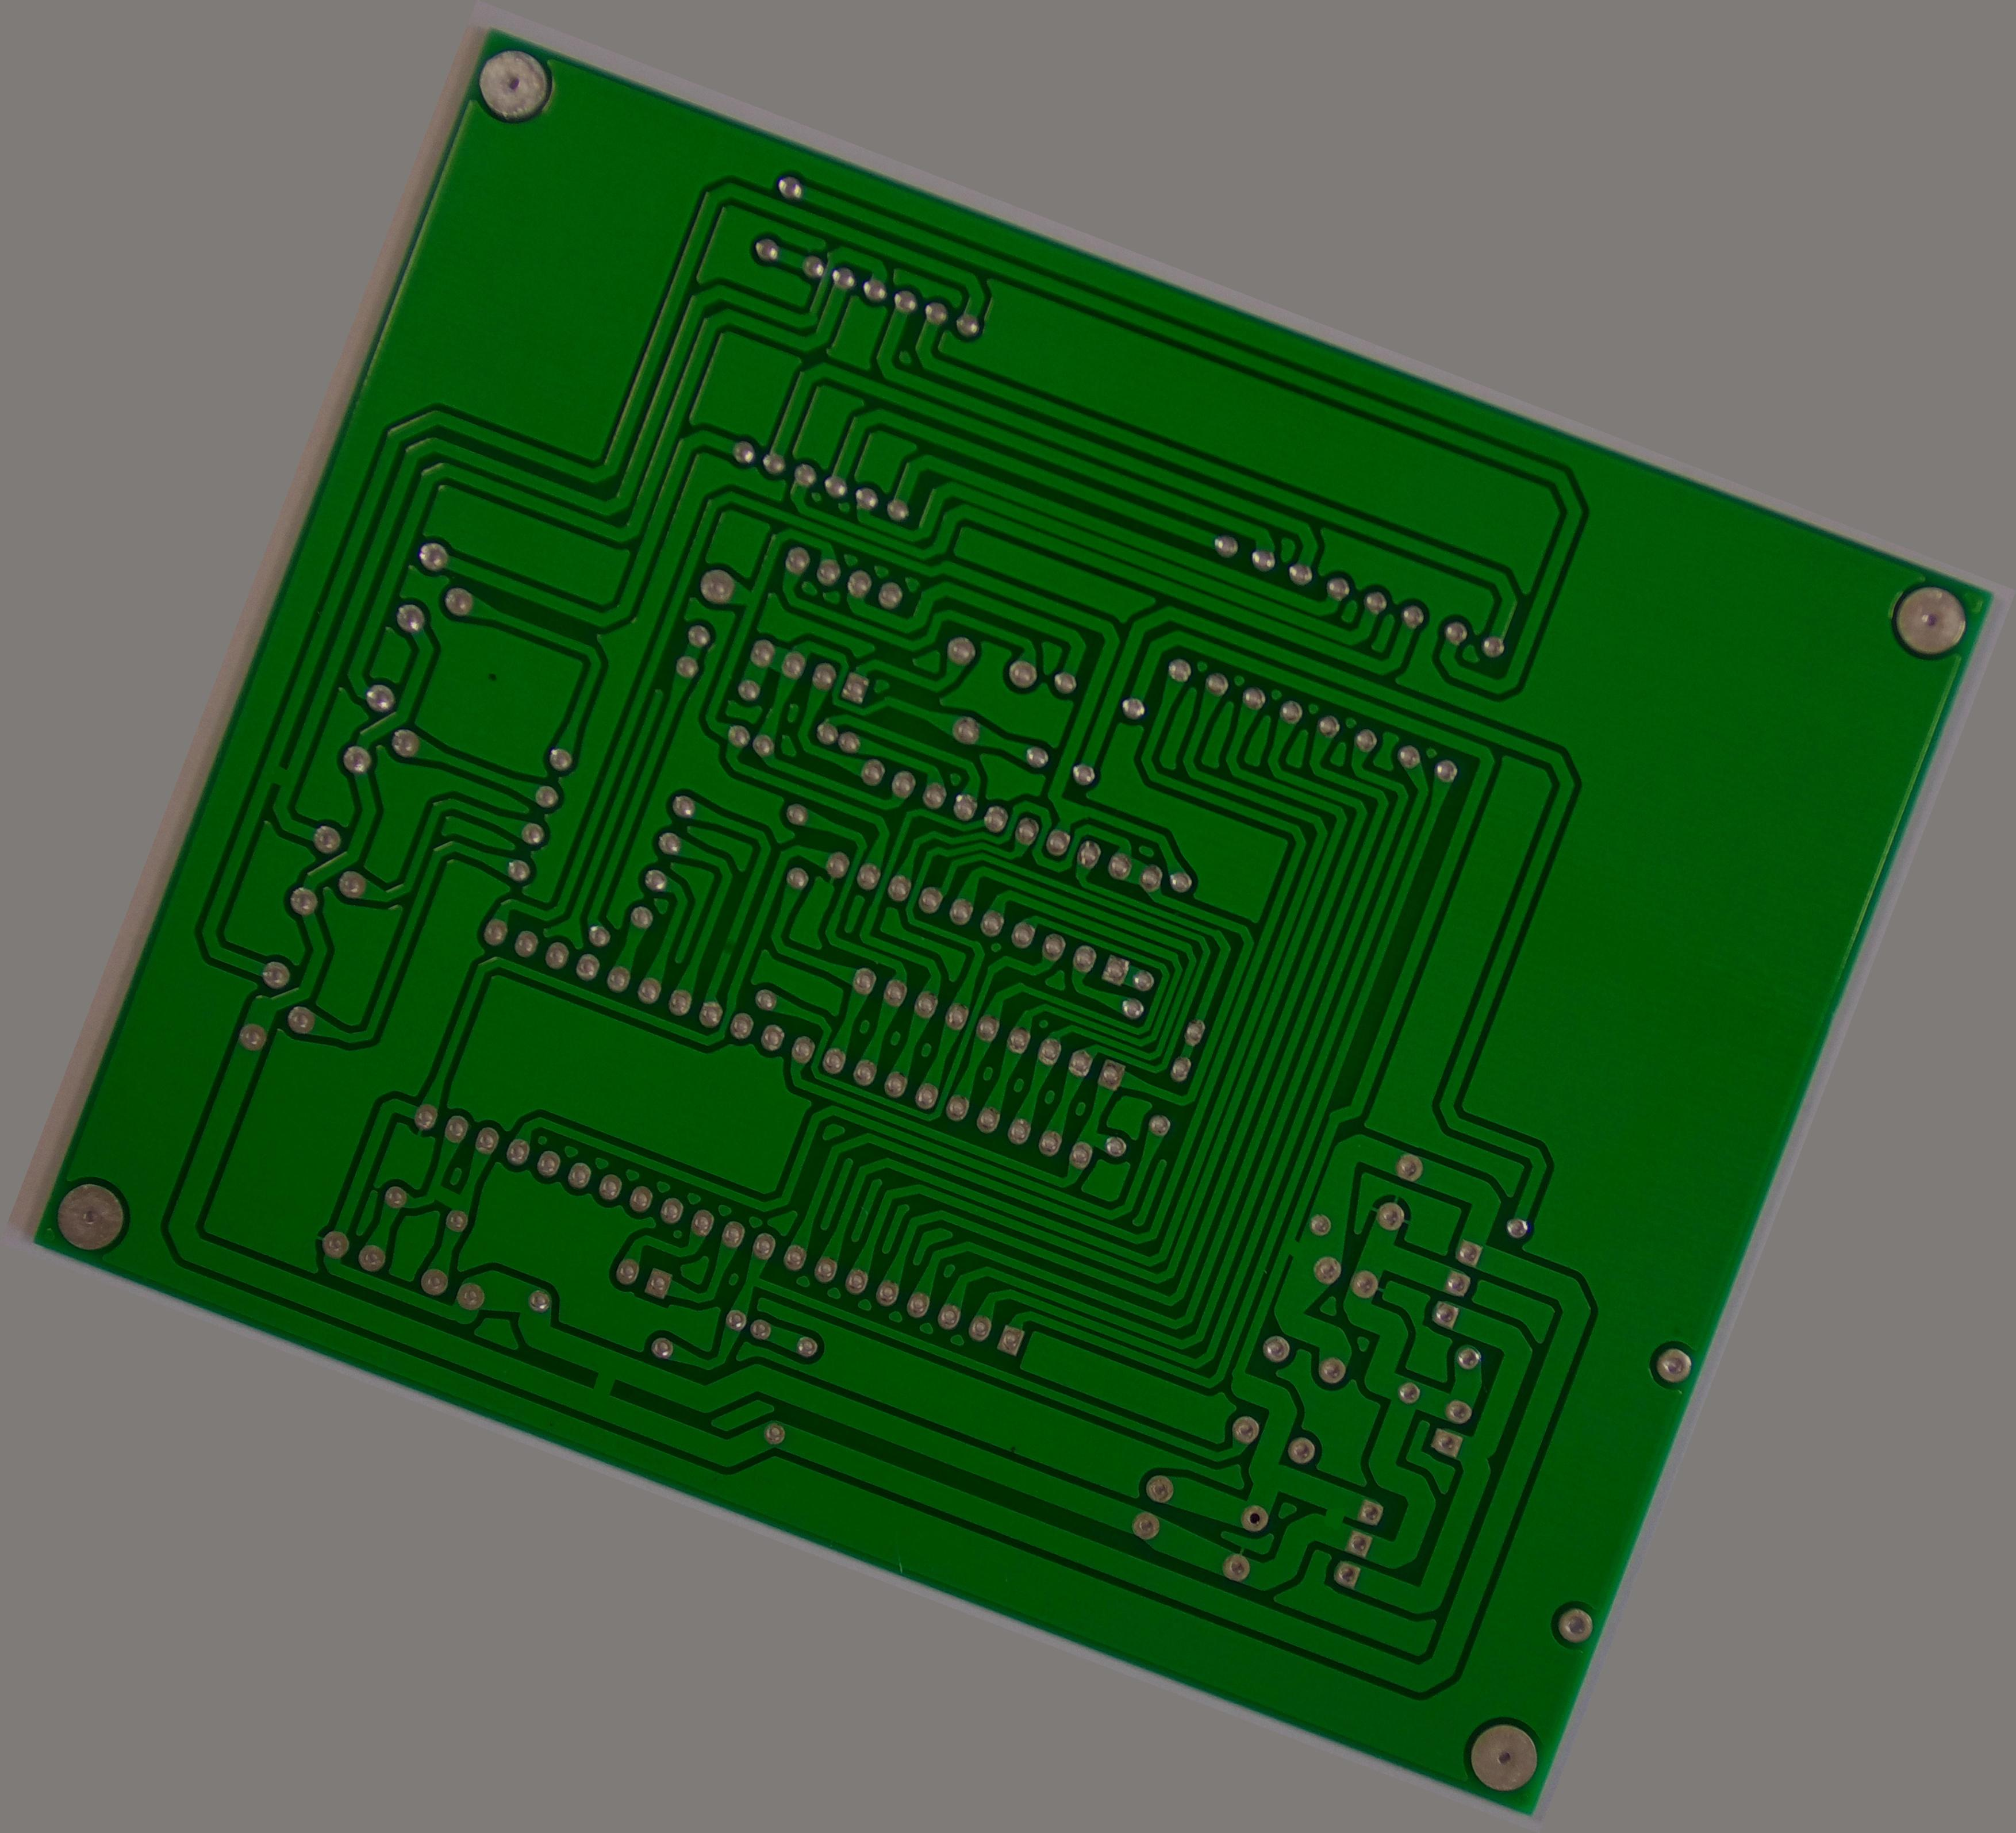short: (578, 1354, 636, 1412), (418, 1169, 474, 1224), (249, 750, 304, 799), (1312, 1494, 1359, 1542), (1273, 1227, 1315, 1268)
